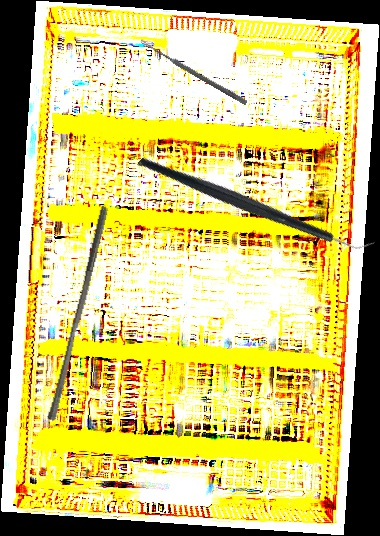Chopper: (136, 86, 377, 319)
Pusher: (46, 203, 110, 424)
Surgical Spoon: (138, 38, 249, 106)
